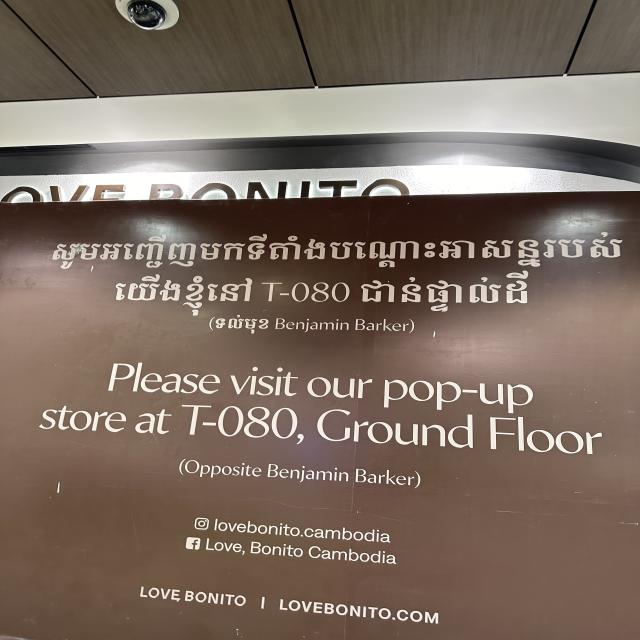94: (98, 269, 536, 314)
Yolov11_80vkh: (37, 225, 628, 269), (197, 314, 424, 347)
